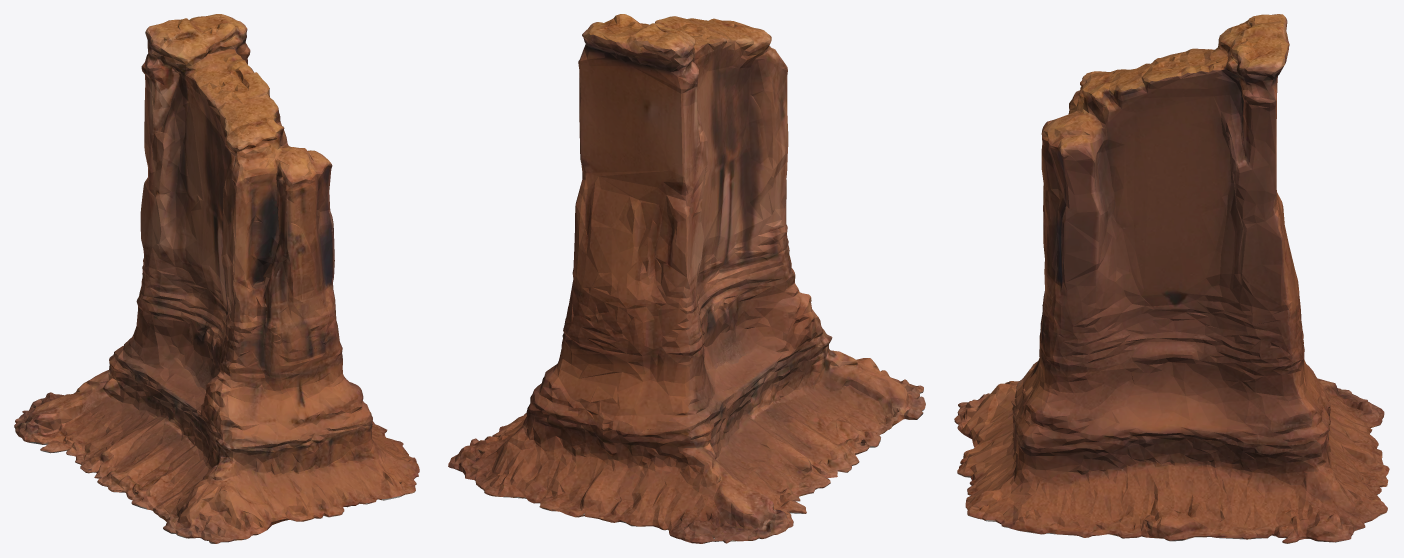
File: mesa-butte.glb
3 views of the same model, side by side, from view 1: azimuth 30°, elevation 25°; view 2: azimuth 150°, elevation 25°; view 3: azimuth 270°, elevation 25° (orthographic). The views are drawn at different scales.
Parts seen in each view (by area): view 1: tmpjrlormlp.ply; view 2: tmpjrlormlp.ply; view 3: tmpjrlormlp.ply.
Part boxes in pixels (bbox=[...]): tmpjrlormlp.ply: bbox=[14, 14, 419, 543]; tmpjrlormlp.ply: bbox=[448, 14, 925, 543]; tmpjrlormlp.ply: bbox=[954, 14, 1389, 543].
Bounding box in the file's own units: 1.53 × 1.99 × 1.79.
Materials: 1 (1 with a texture image).
